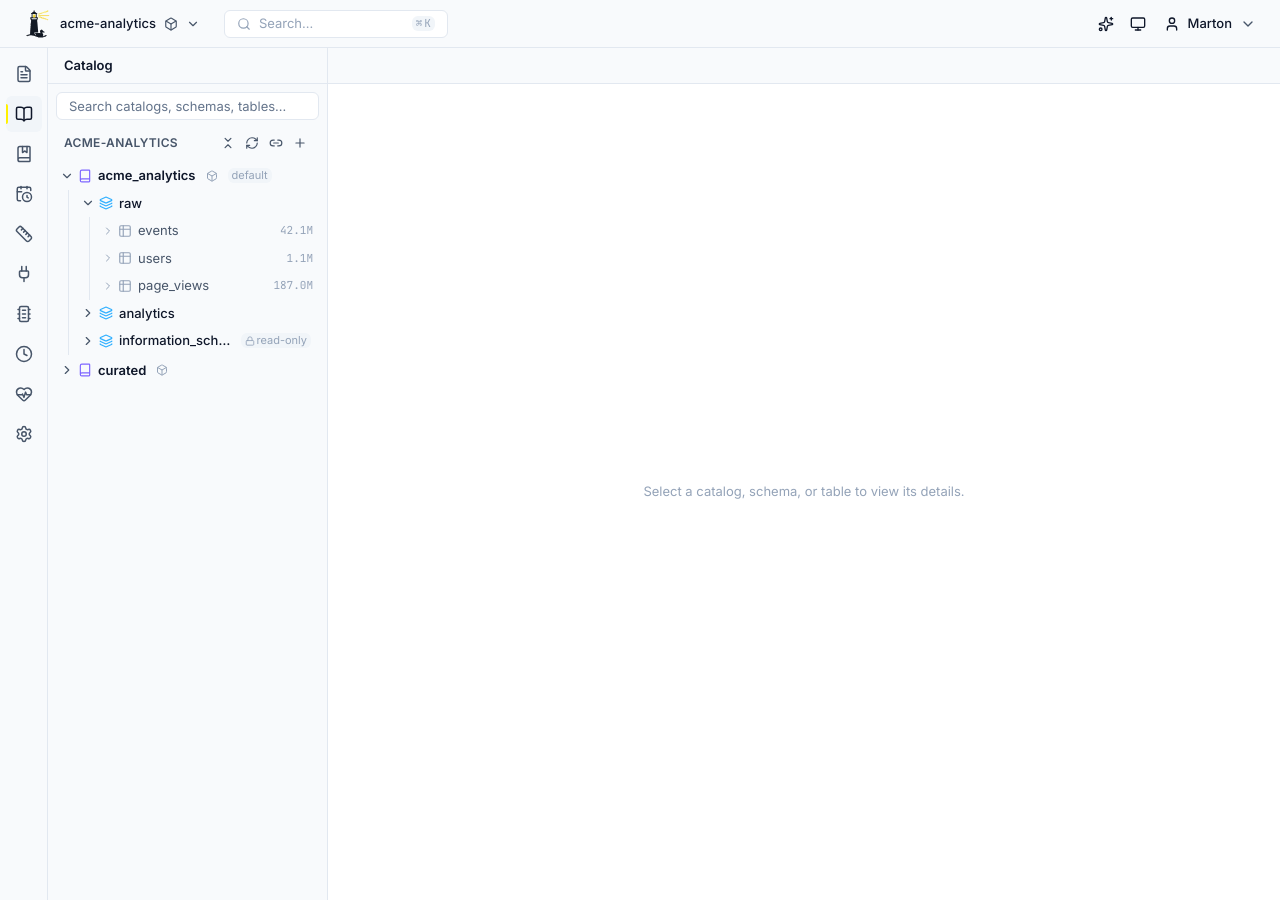
Test: CatalogPage › creates a schema via the catalog right-click menu
Check: the text "raw" is shown, box 119,194 -> 142,213
Step 1. Right-click the button "acme_analytics default" → (198, 176), box 78,162 -> 319,190
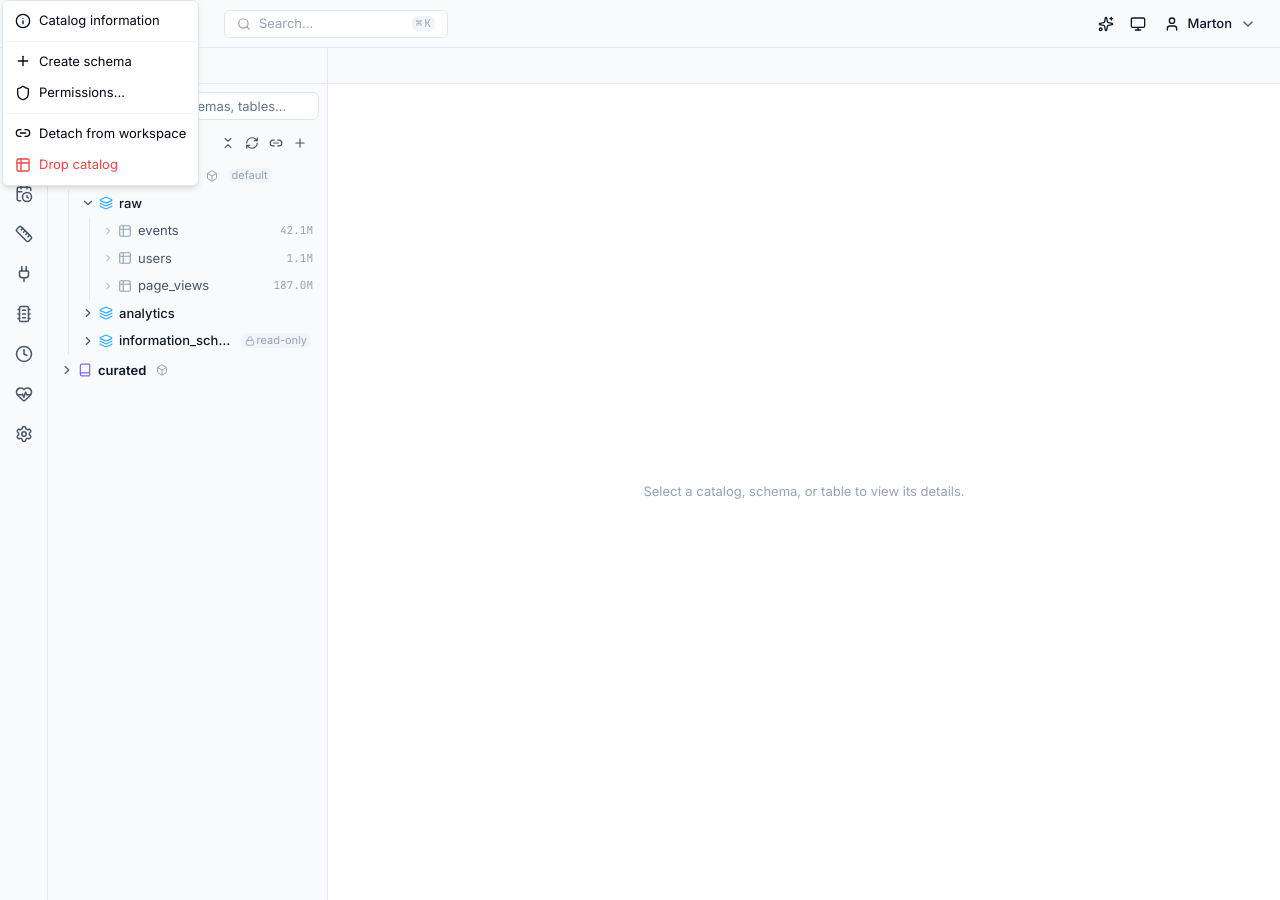
Step 2. Click the menu item "Create schema" → (73, 61), box 15,52 -> 132,69
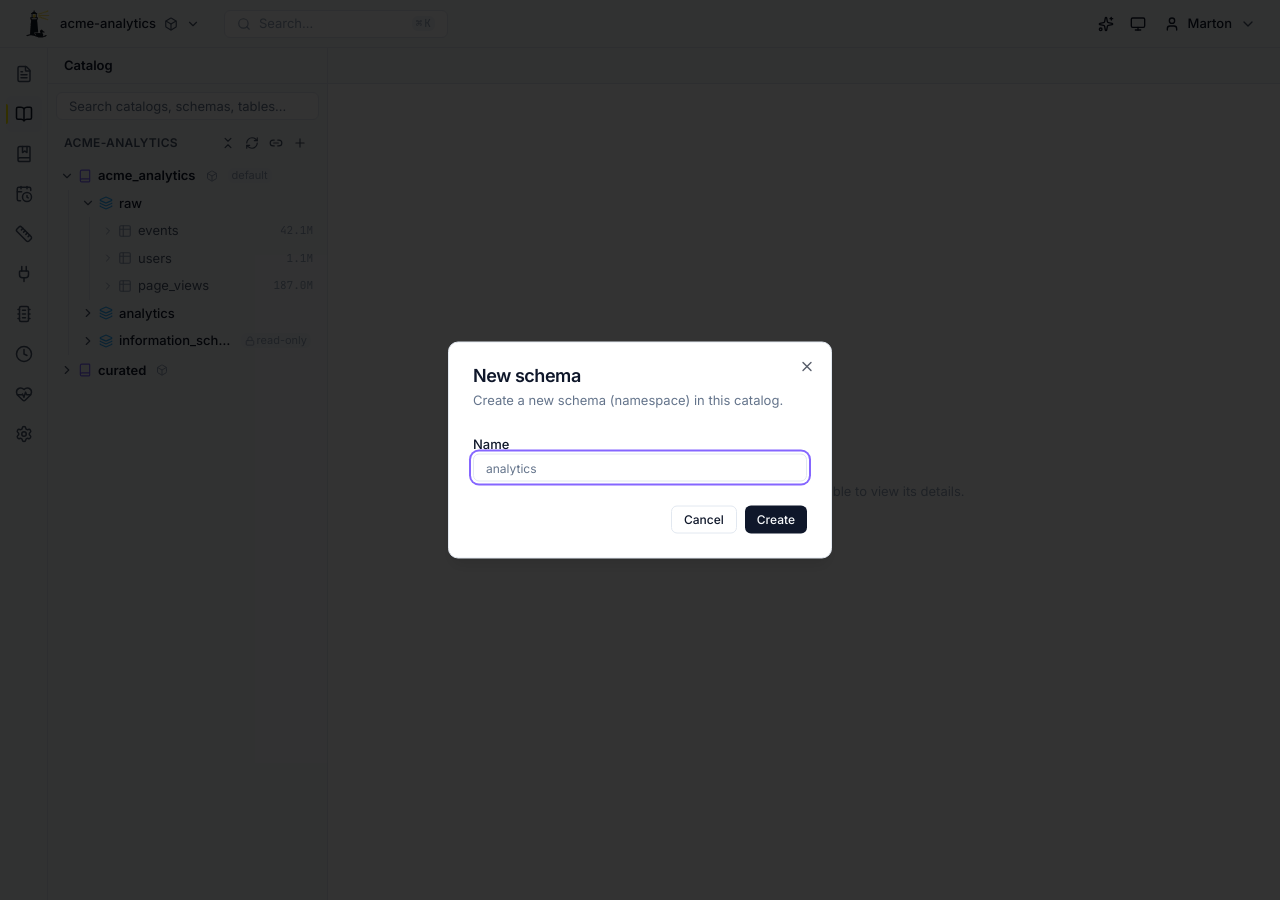
Step 3. Type "gold" into the field labelled "Name" → (640, 468), box 473,454 -> 807,482
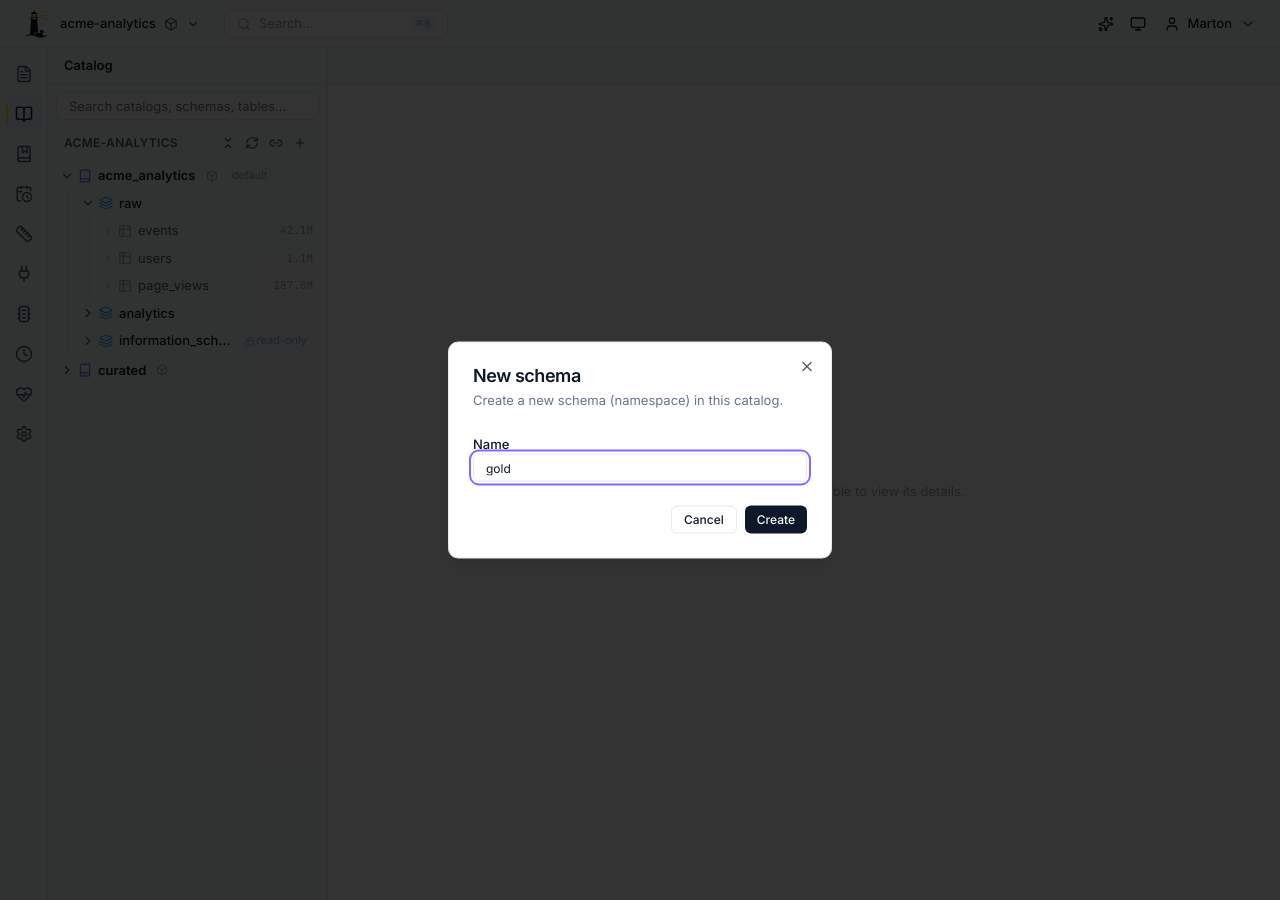
Step 4. Click the button "Create" → (776, 520), box 745,506 -> 807,534
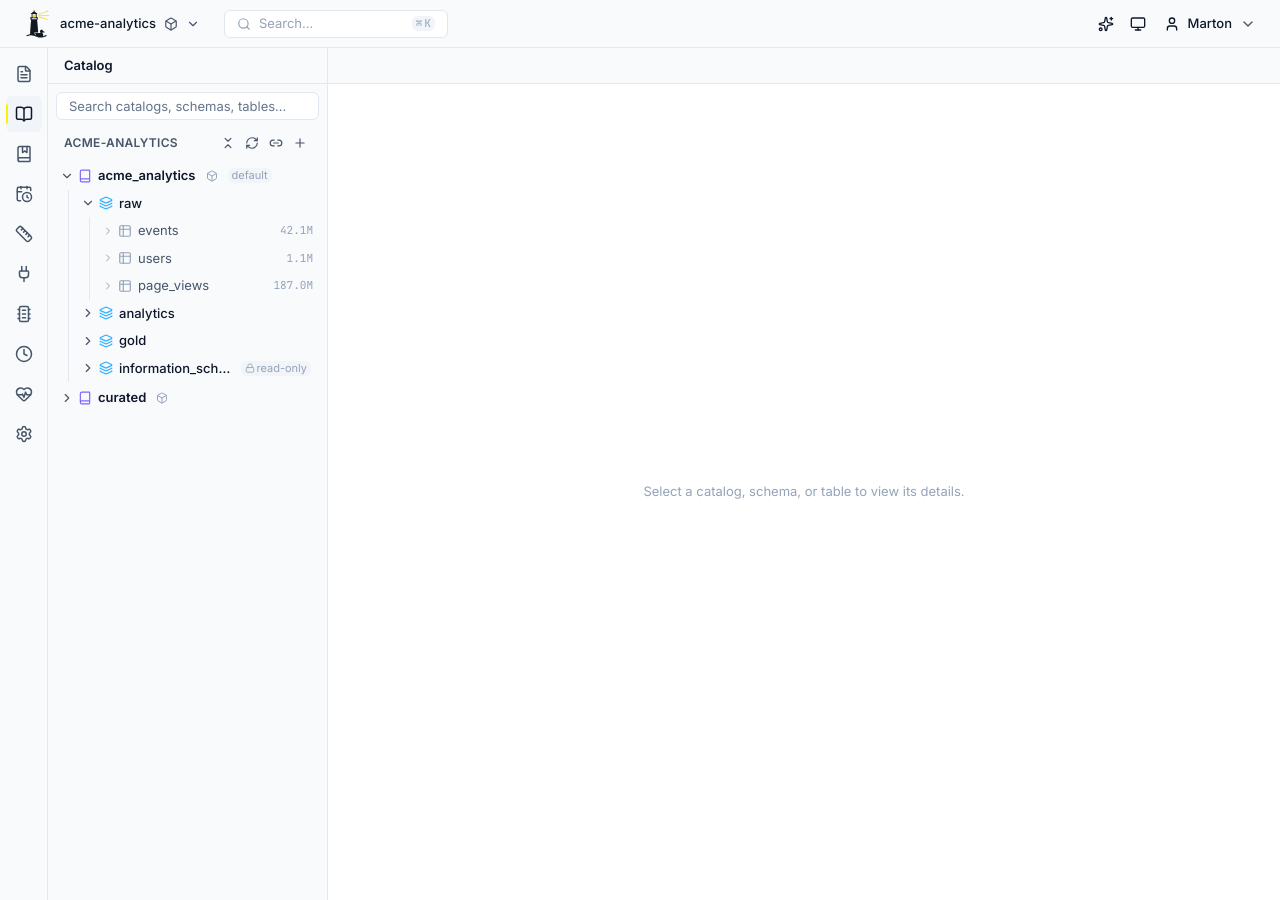
Check: the text "gold" is shown, box 119,331 -> 146,350
